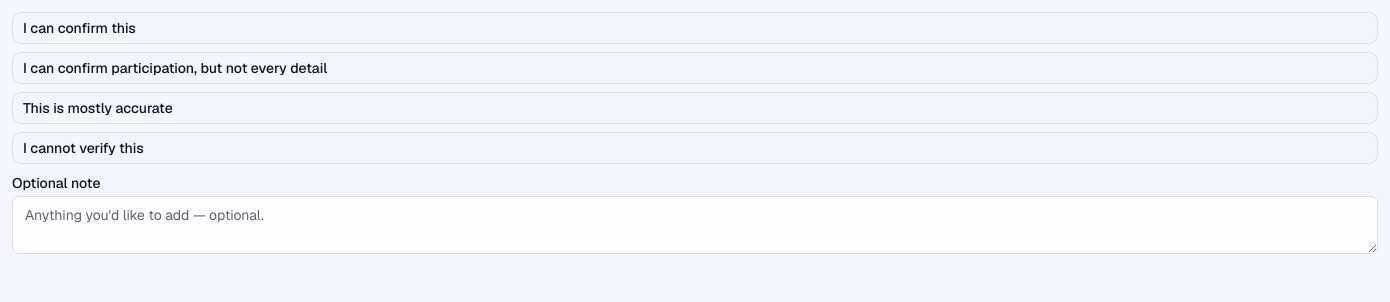
Scenario: ConfirmationResponseForm — success state accessibility and focus › never shows the success state or moves focus when the server action reports failure
The width and height of the screenshot is (1390, 302).
Step 1. Click the button "I cannot verify this" → point(83, 148), box x1=12 y1=132 x2=1378 y2=164
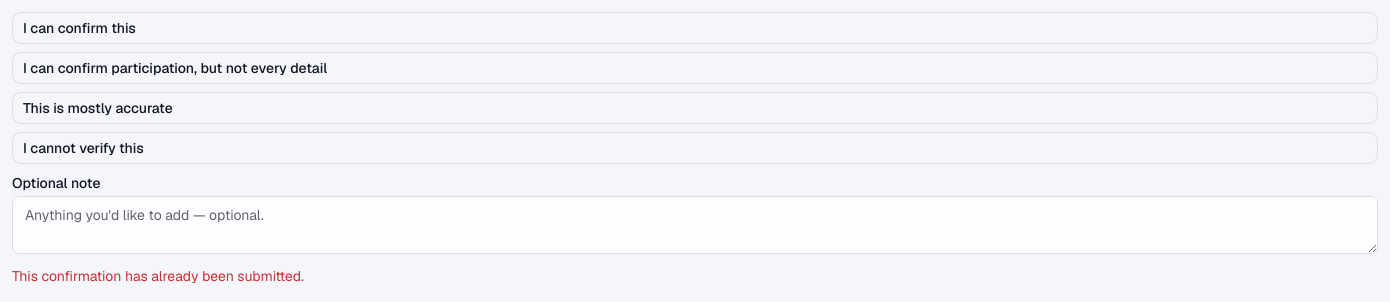
Expected: the message shows "already been submitted", x1=12 y1=267 x2=304 y2=285
